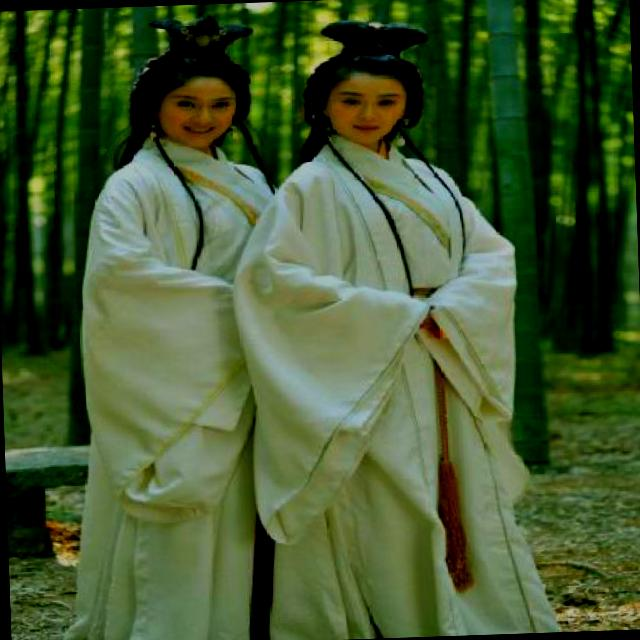Person: (52, 0, 329, 640), (262, 2, 520, 627)
